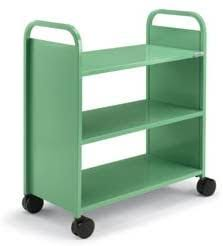Carts: (21, 9, 217, 239)
